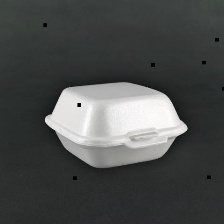foam_box: (39, 74, 193, 172)
